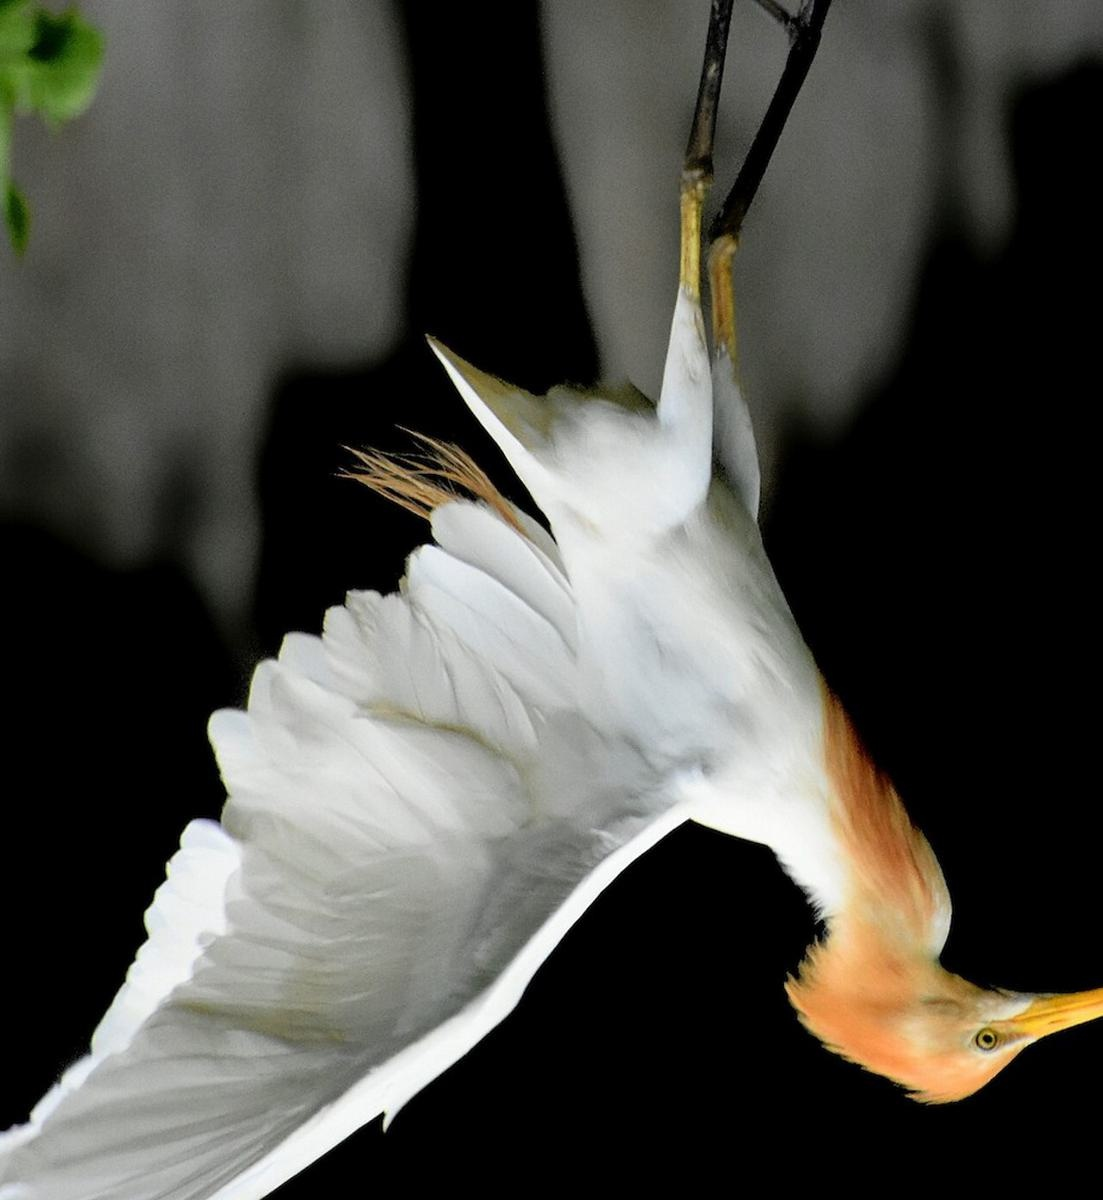egret: (1, 1, 1095, 1182)
